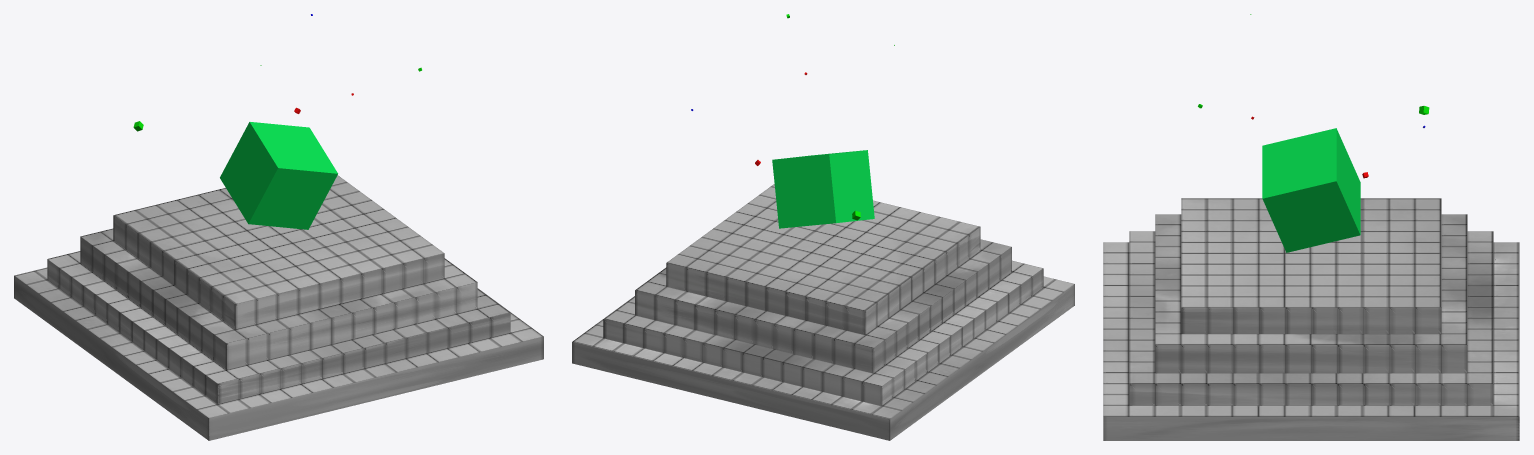
The model's file is token_untaken.dae.
3 views of the same model, side by side, from view 1: azimuth 30°, elevation 25°; view 2: azimuth 150°, elevation 25°; view 3: azimuth 270°, elevation 25° (orthographic). The views are drawn at different scales.
Parts seen in each view (by area): view 1: Cube, Cube.001; view 2: Cube, Cube.001; view 3: Cube, Cube.001.
Part boxes in pixels (<box>): Cube: <box>14,175,543,440</box>; Cube.001: <box>220,122,337,229</box>; Cube: <box>572,184,1074,440</box>; Cube.001: <box>772,150,874,228</box>; Cube: <box>1103,198,1519,440</box>; Cube.001: <box>1262,128,1360,252</box>.
Size of what is drawn, in the model's own units: 3.85 by 3.89 by 3.25.
8 materials, 1 textured.
